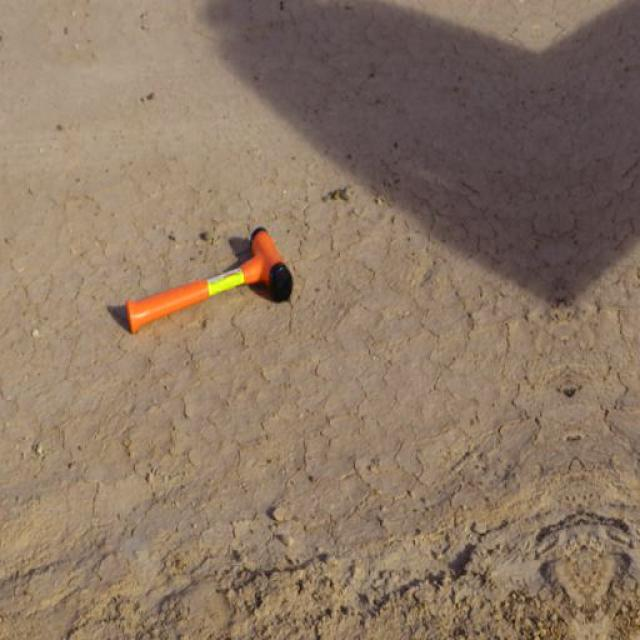mallet: (125, 225, 295, 335)
